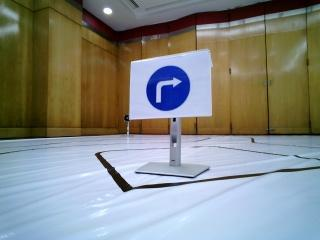right: (132, 61, 210, 114)
